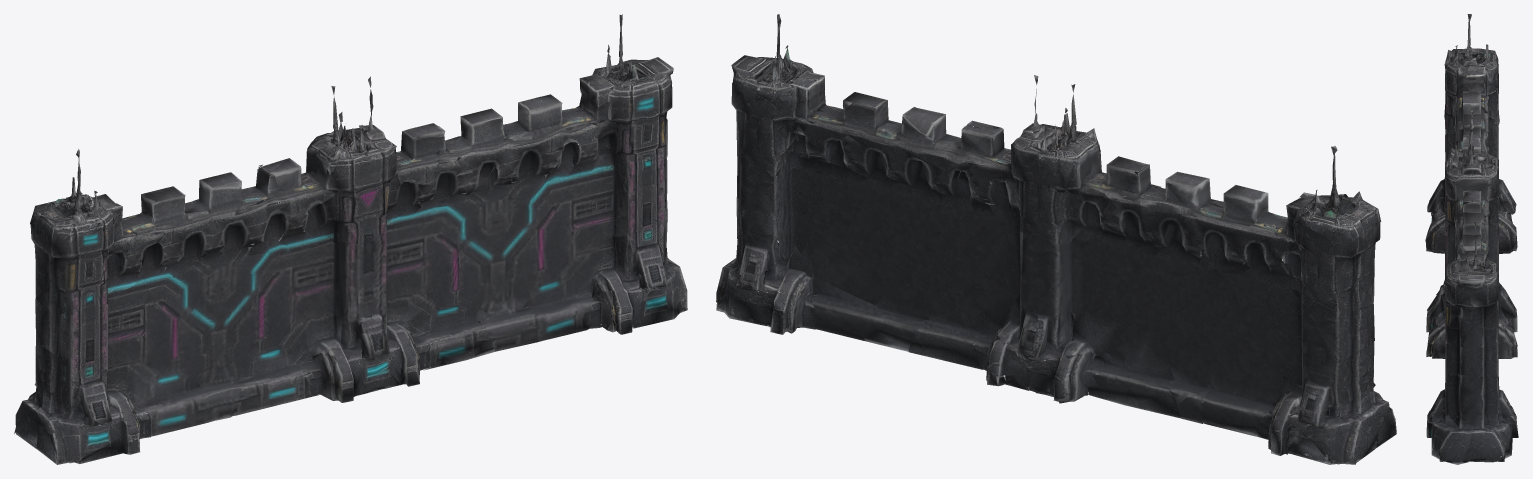
Rendered from sector12PerimeterWall_low.png.glb.
The picture shows the model from 3 angles, left to right: view 1: azimuth 30°, elevation 25°; view 2: azimuth 150°, elevation 25°; view 3: azimuth 270°, elevation 25°; orthographic projection. The views are drawn at different scales.
Visible parts, largest first — view 1: Mesh_0.001; view 2: Mesh_0.001; view 3: Mesh_0.001.
Part boxes in pixels (box(x1,y1,x2,y2)): Mesh_0.001: box(14, 14, 687, 464); Mesh_0.001: box(716, 14, 1396, 464); Mesh_0.001: box(1425, 14, 1518, 464).
Bounding box in the file's own units: 1.87 × 0.8237 × 0.3068.
1 material, 1 textured.
